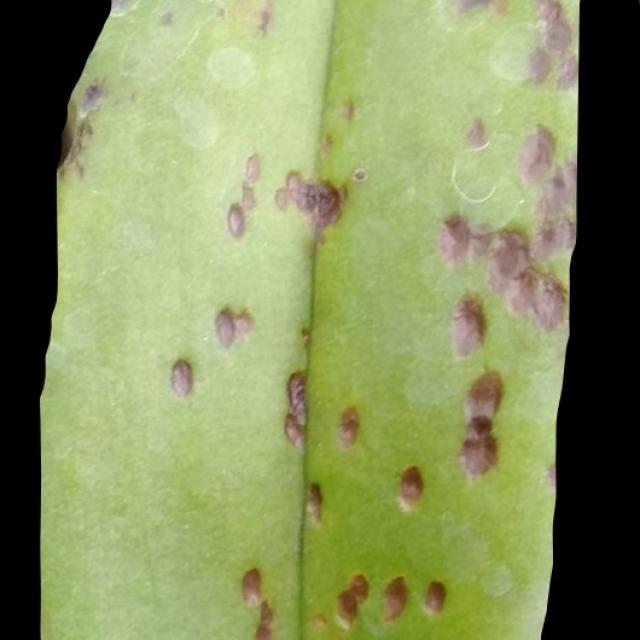mite: (330, 569, 452, 627), (380, 574, 411, 622), (478, 562, 516, 600), (421, 577, 448, 615), (350, 165, 368, 182)
spots: (39, 0, 580, 639)
sunburn: (453, 366, 508, 483)
